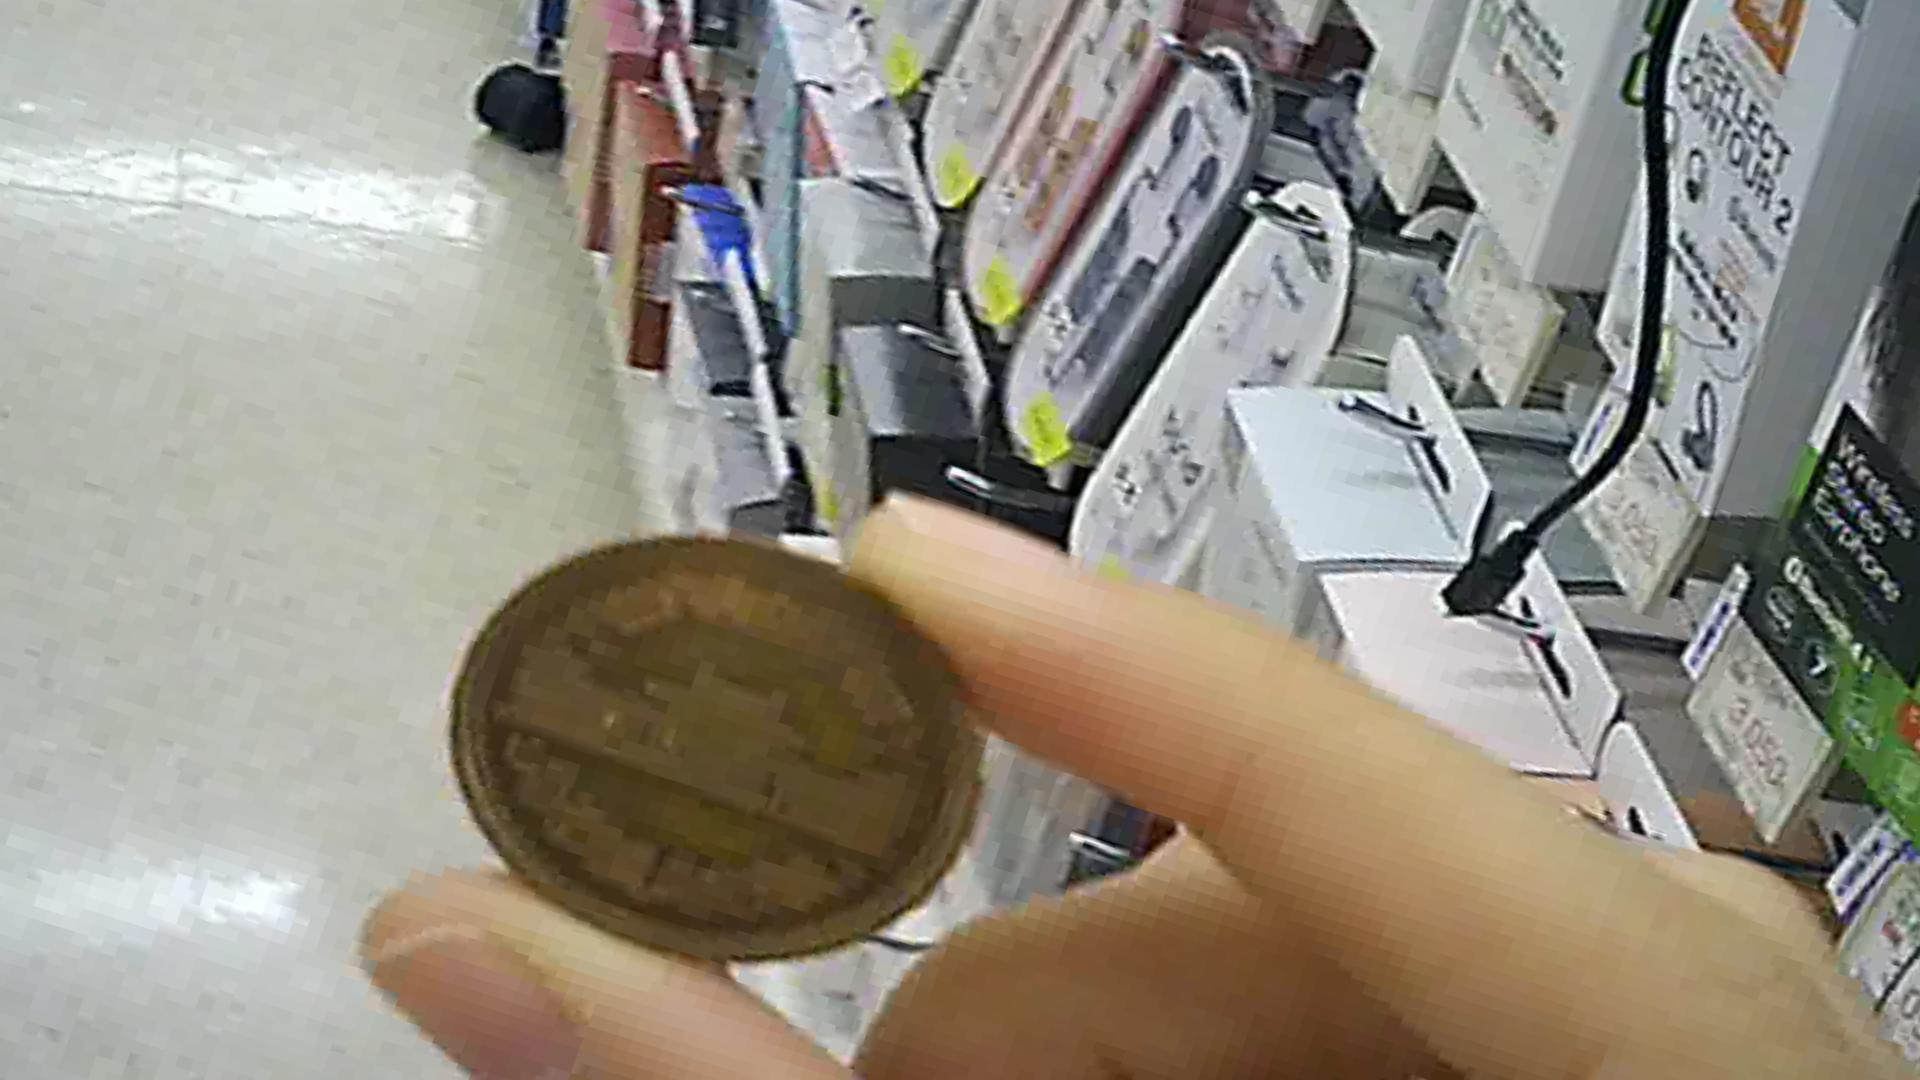10 Yen: (442, 521, 997, 957)
